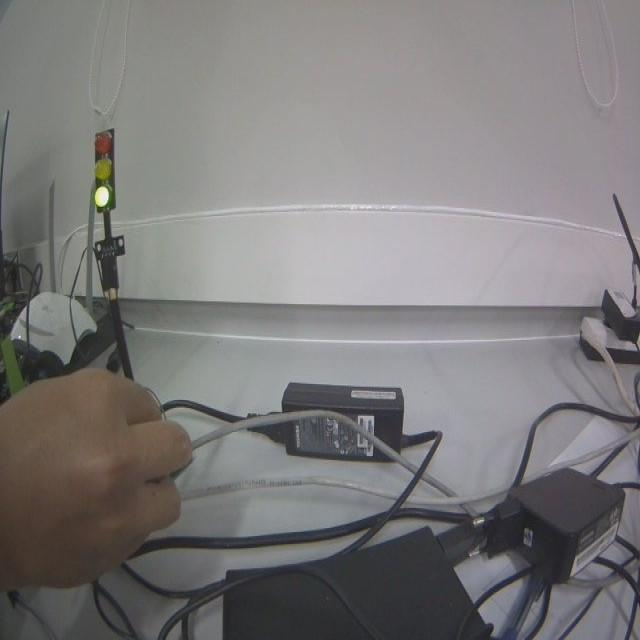Lampu Hijau: (93, 128, 116, 212)
